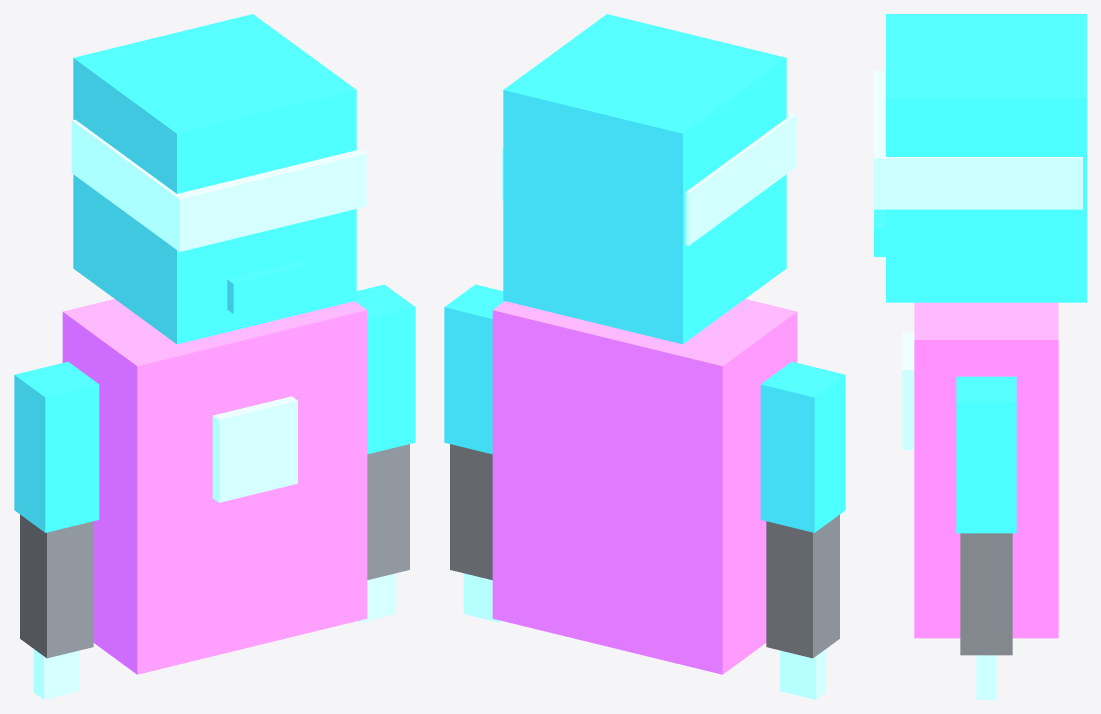
File: jevsay_presenter.glb
3 renders of one model, left to right at view 1: azimuth 30°, elevation 25°; view 2: azimuth 150°, elevation 25°; view 3: azimuth 270°, elevation 25°, orthographic. The views are drawn at different scales.
Visible parts, largest first — view 1: Torso, Head, Visor, LeftUpperArm, LeftForearm, RightUpperArm, ChestCore, RightForearm, Jaw, LeftHand, RightHand; view 2: Torso, Head, LeftUpperArm, LeftForearm, RightUpperArm, Visor, RightForearm, LeftHand, RightHand; view 3: Head, Torso, Visor, RightUpperArm, RightForearm, ChestCore, RightHand, Jaw.
Boxes of the visible parts, bbox=[...] form: Torso: bbox=[62, 299, 367, 674]; Head: bbox=[73, 14, 356, 344]; Visor: bbox=[71, 119, 366, 251]; LeftUpperArm: bbox=[14, 361, 99, 532]; LeftForearm: bbox=[20, 514, 93, 658]; RightUpperArm: bbox=[355, 284, 415, 454]; ChestCore: bbox=[212, 396, 297, 502]; RightForearm: bbox=[367, 444, 409, 580]; Jaw: bbox=[227, 260, 312, 313]; LeftHand: bbox=[33, 649, 79, 699]; RightHand: bbox=[358, 573, 396, 622]; Torso: bbox=[492, 299, 797, 674]; Head: bbox=[503, 14, 786, 344]; LeftUpperArm: bbox=[760, 361, 845, 532]; LeftForearm: bbox=[766, 514, 839, 658]; RightUpperArm: bbox=[444, 284, 504, 454]; Visor: bbox=[501, 112, 796, 245]; RightForearm: bbox=[450, 444, 492, 580]; LeftHand: bbox=[780, 649, 826, 699]; RightHand: bbox=[463, 573, 501, 622]; Head: bbox=[886, 14, 1086, 302]; Torso: bbox=[914, 302, 1058, 638]; Visor: bbox=[874, 70, 1082, 209]; RightUpperArm: bbox=[956, 376, 1016, 533]; RightForearm: bbox=[960, 533, 1012, 655]; ChestCore: bbox=[902, 332, 914, 449]; RightHand: bbox=[976, 655, 996, 699]; Jaw: bbox=[874, 209, 885, 256].
Size of the model in its own units: 1.03 by 1.54 by 0.53.
